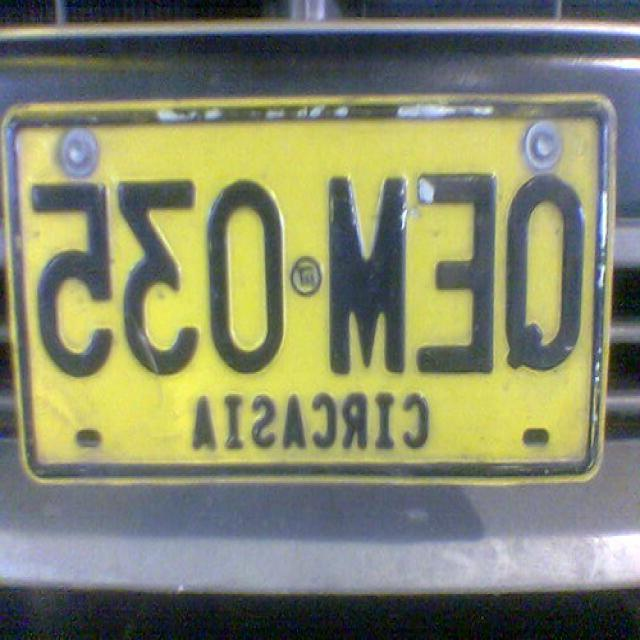placas: (20, 167, 597, 385)
